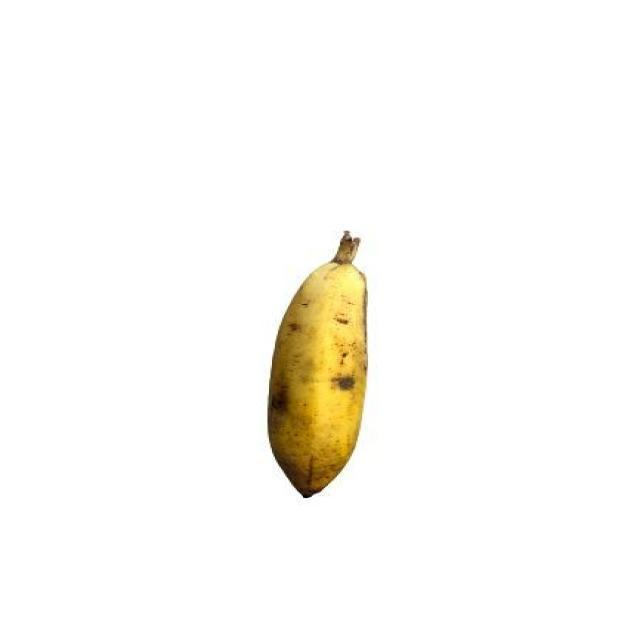Banana: (261, 235, 372, 500)
